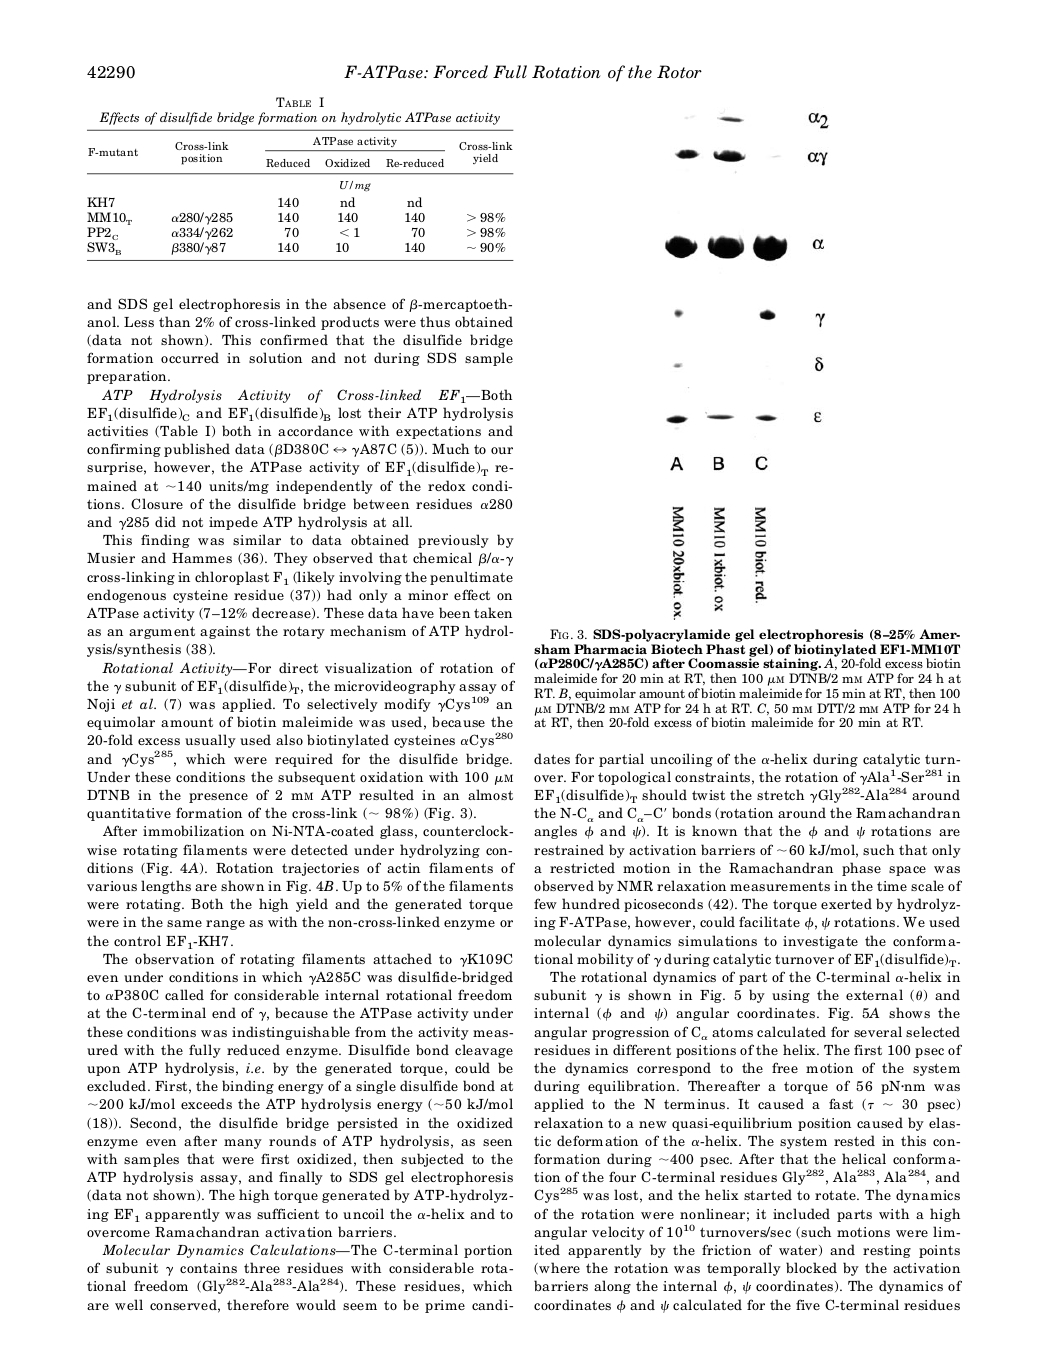Table: (87, 210, 505, 255), (88, 136, 512, 167)
figure: (672, 505, 766, 620), (666, 233, 823, 262), (674, 309, 824, 328), (674, 148, 828, 166), (673, 355, 823, 372), (685, 112, 829, 129), (666, 411, 822, 424), (670, 455, 767, 471)
